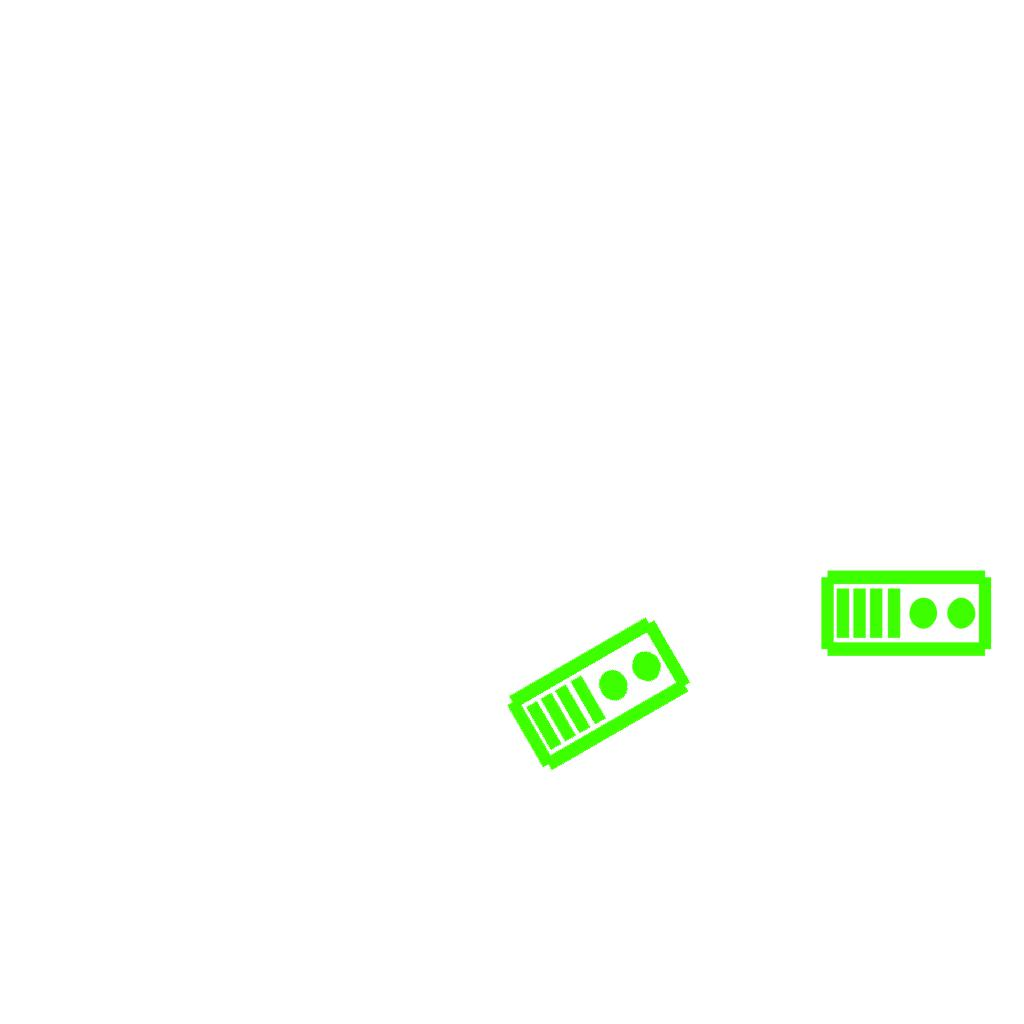Gegensprechanlage_mit_Video: (498, 606, 699, 778), (819, 564, 995, 659)
